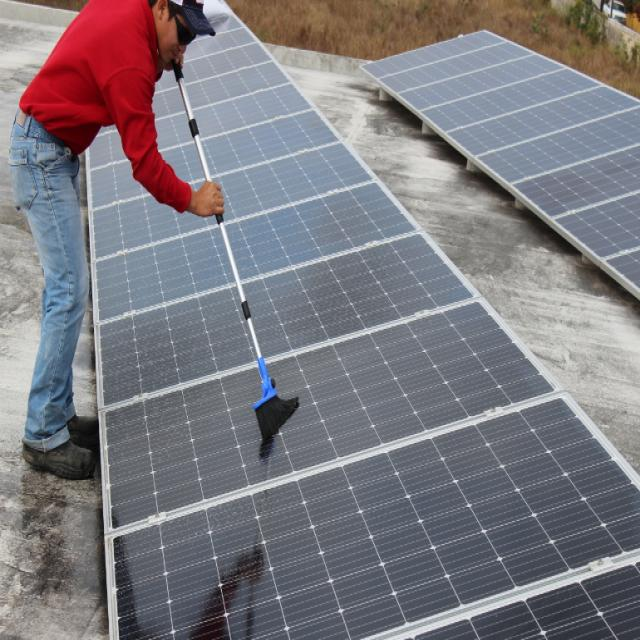clean-solar-panel: (84, 0, 640, 637), (364, 31, 640, 297)
